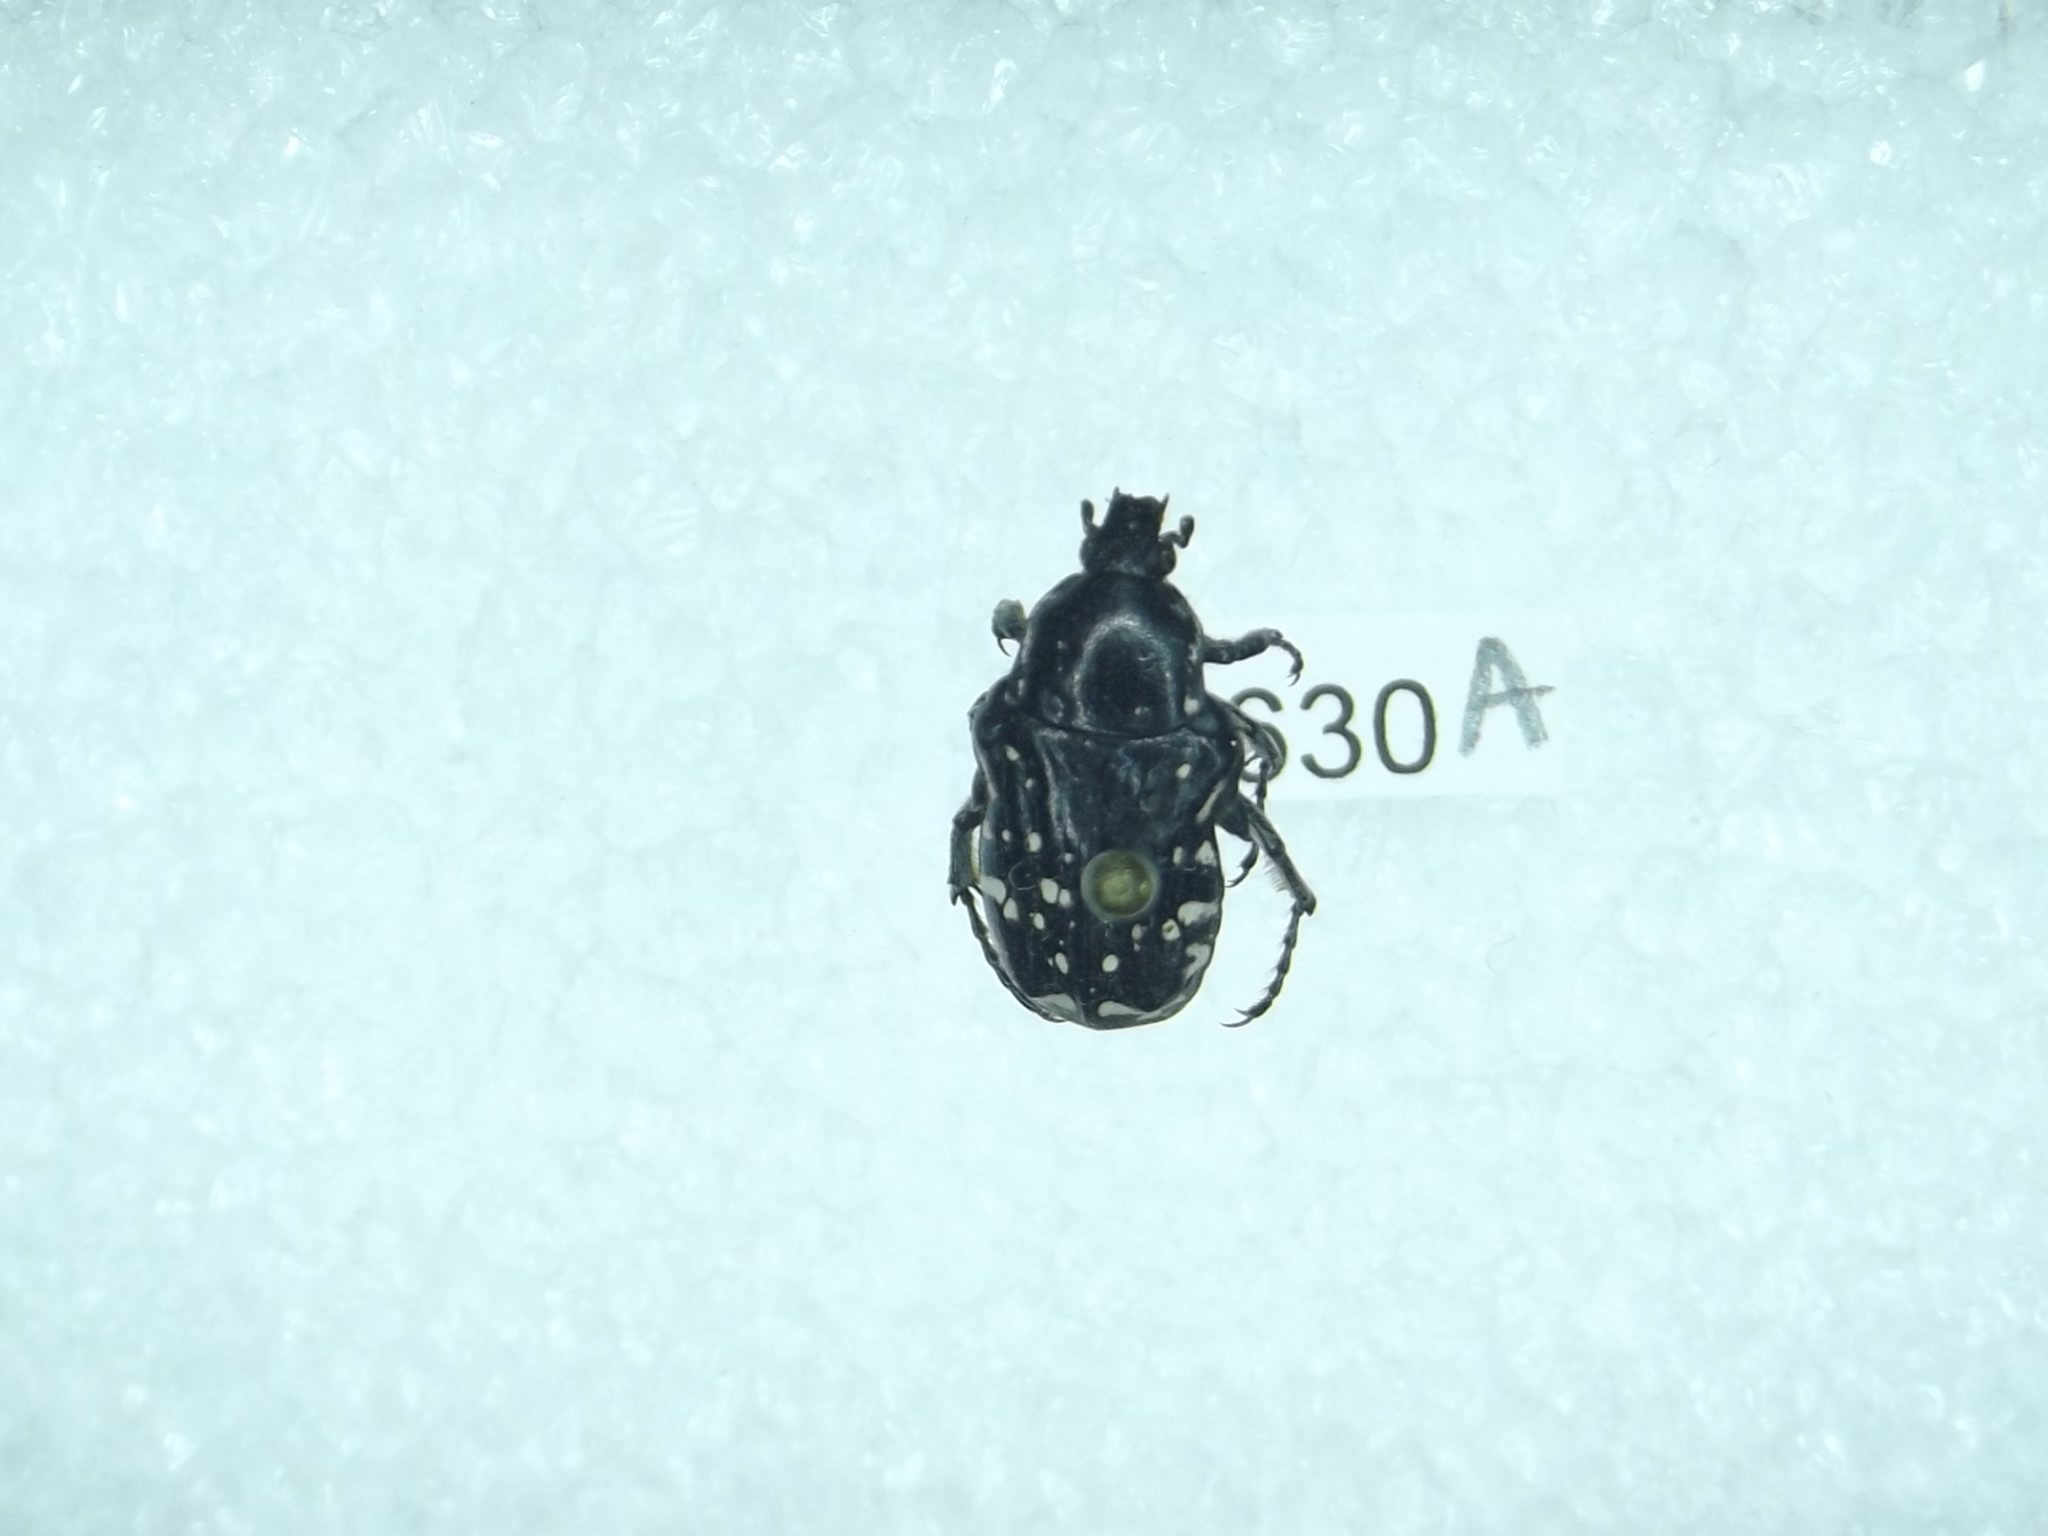Oxythyrea_albopicta: (955, 463, 1335, 1034)
